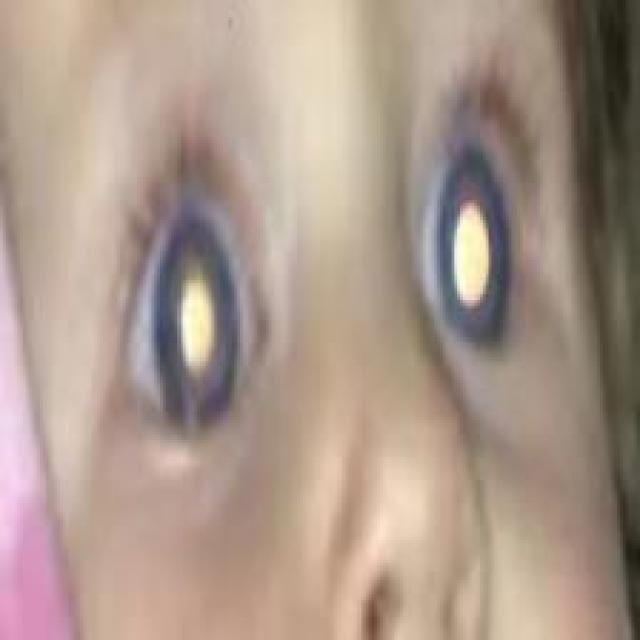reflexo-alterado: (104, 175, 298, 461), (398, 159, 537, 397)
